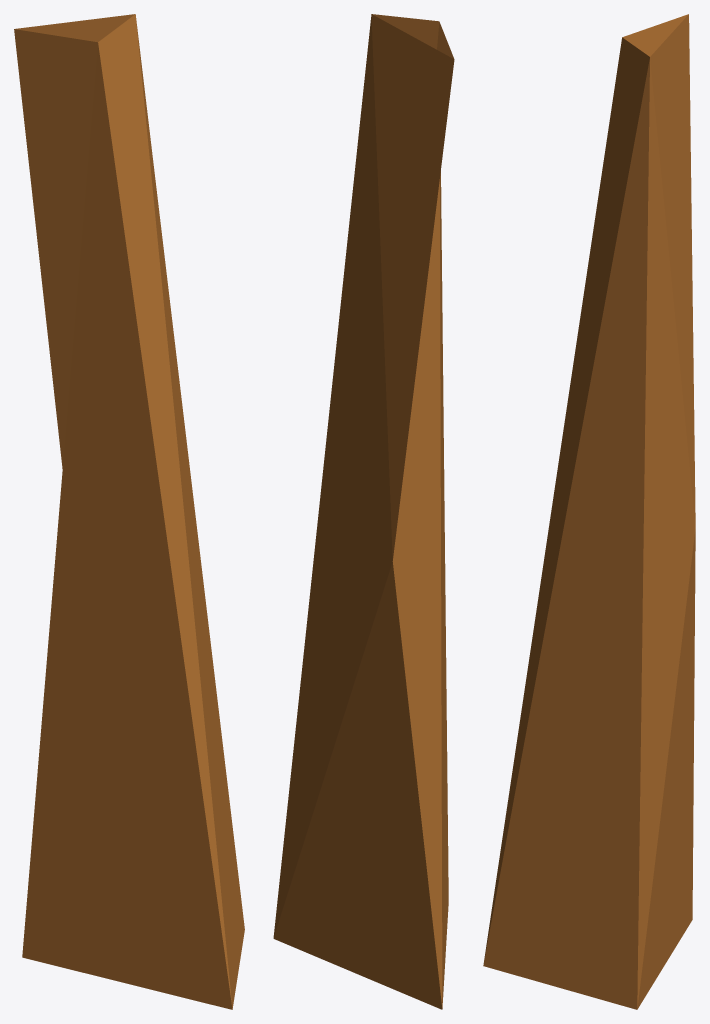
File: stvol2.glb
The picture shows the model from 3 angles, left to right: view 1: azimuth 30°, elevation 25°; view 2: azimuth 150°, elevation 25°; view 3: azimuth 270°, elevation 25°; orthographic projection. The views are drawn at different scales.
Visible parts, largest first — view 1: Декор.050; view 2: Декор.050; view 3: Декор.050.
Boxes of the visible parts, <box> form: Декор.050: <box>14,14,244,1009</box>; Декор.050: <box>273,14,454,1009</box>; Декор.050: <box>483,14,695,1009</box>.
Bounding box in the file's own units: 4.51 × 19.79 × 4.2.
